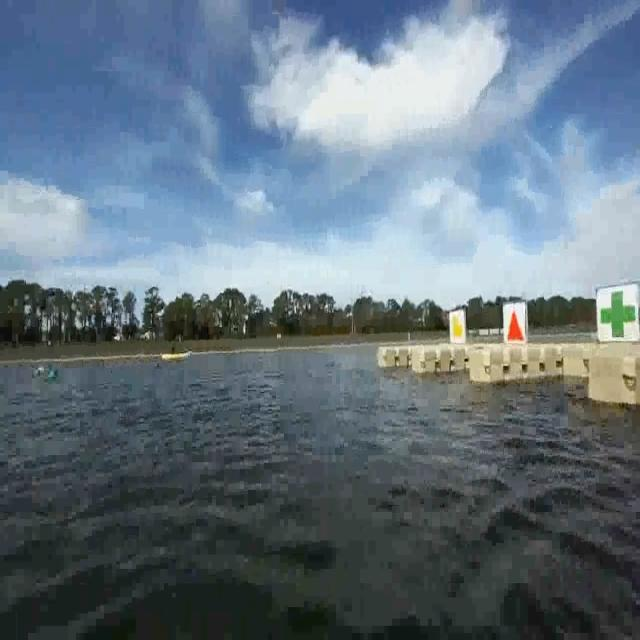blue-cross: (596, 287, 635, 344)
red-dot: (500, 305, 524, 343)
yellow-duck: (449, 314, 462, 339)
